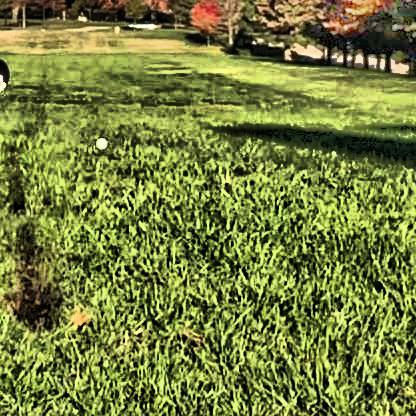golfball: (92, 133, 106, 147)
